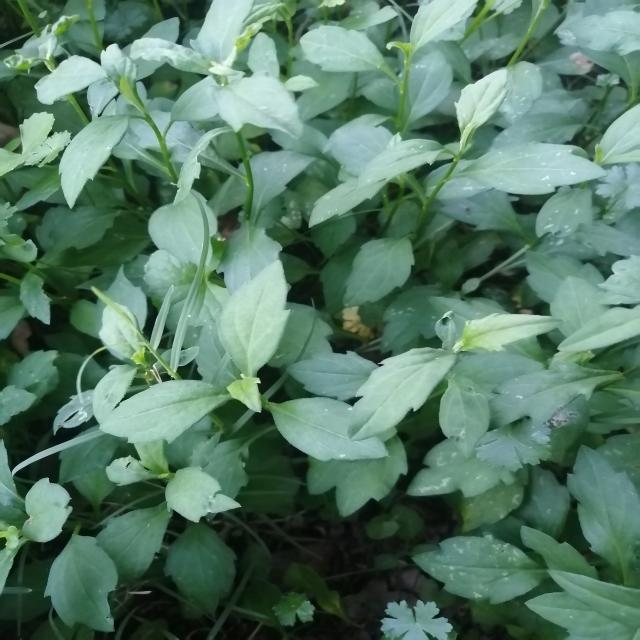Indian aster: (79, 232, 429, 483), (15, 9, 298, 258)
